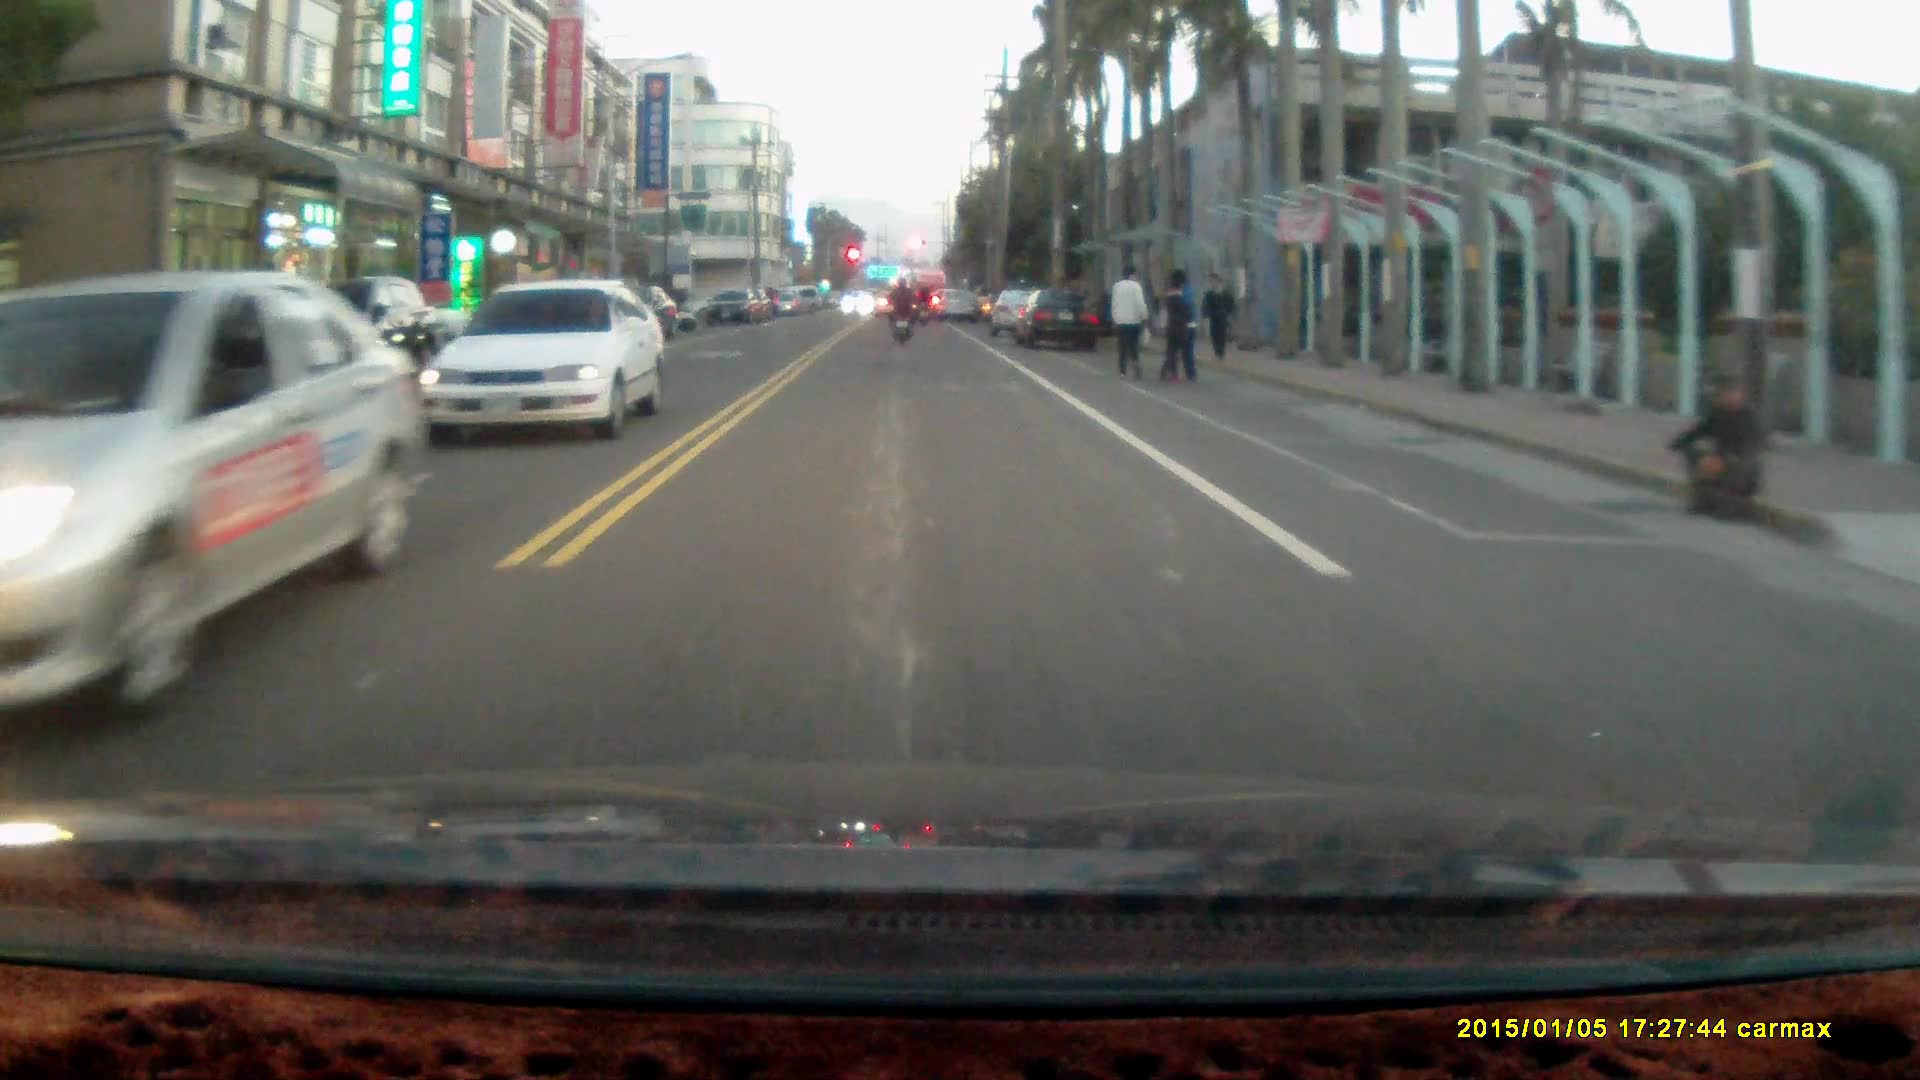pedestrian: (1664, 377, 1768, 521), (1108, 260, 1148, 382), (1156, 276, 1195, 386), (1202, 269, 1237, 362)
rider: (884, 275, 915, 347)
vehicle: (1, 267, 456, 709), (429, 278, 667, 434), (1013, 288, 1103, 349)
